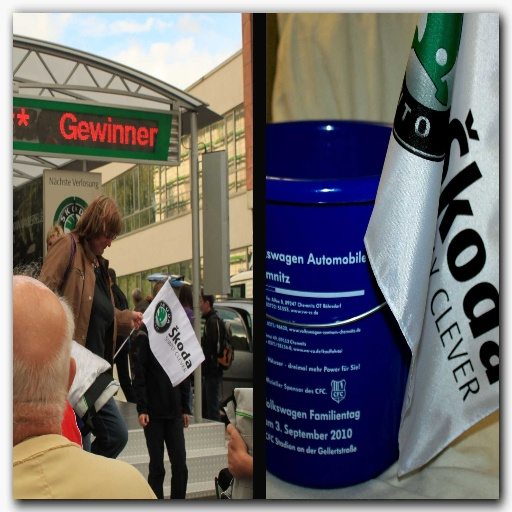hand: (223, 422, 247, 479), (129, 310, 145, 330), (136, 413, 150, 429), (183, 415, 191, 429)
